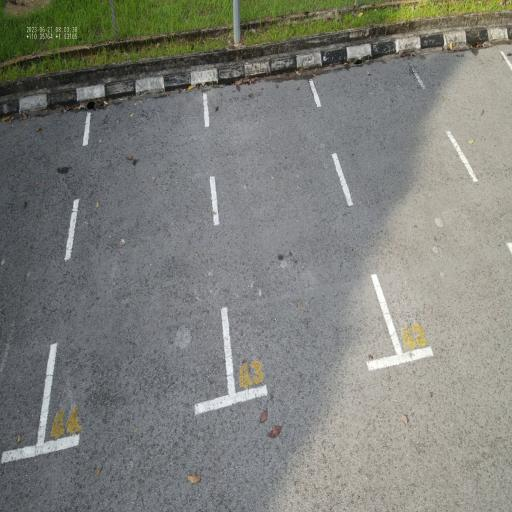Empty: (32, 76, 240, 461), (200, 70, 409, 409)
